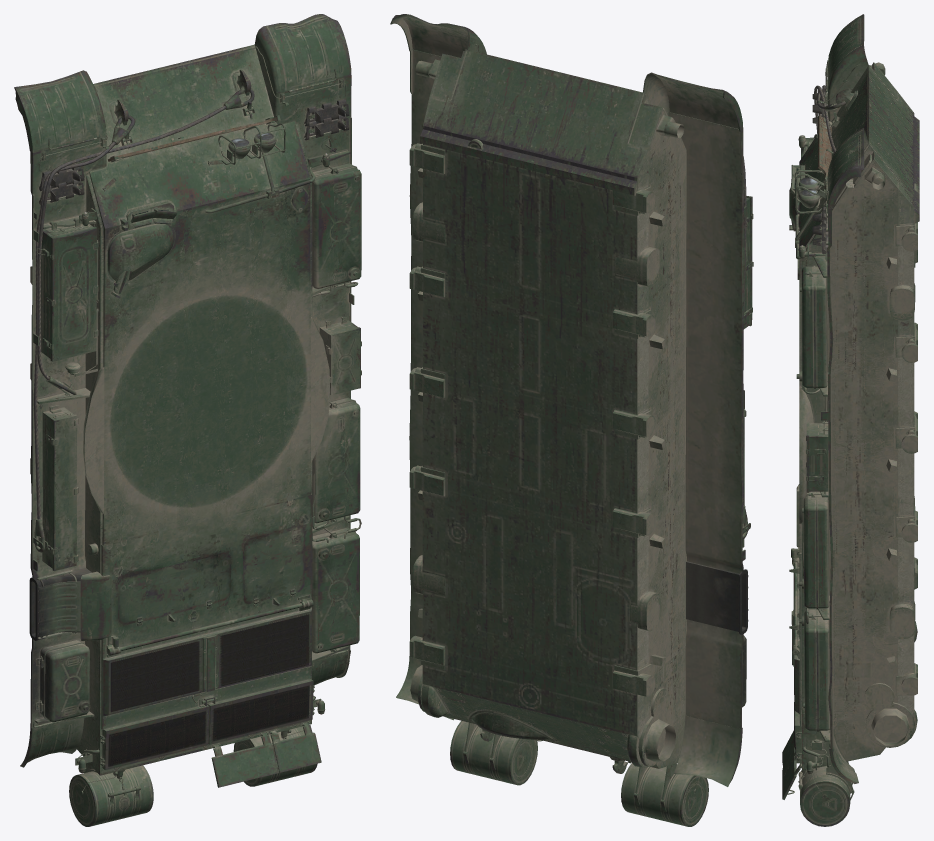
File: Hull.glb
The picture shows the model from 3 angles, left to right: view 1: azimuth 30°, elevation 25°; view 2: azimuth 150°, elevation 25°; view 3: azimuth 270°, elevation 25°; orthographic projection. The views are drawn at different scales.
Parts seen in each view (by area): view 1: set_0_group_0; view 2: set_0_group_0; view 3: set_0_group_0.
Part boxes in pixels (box(x1,y1,x2,y2)): set_0_group_0: box(14, 14, 361, 826); set_0_group_0: box(390, 14, 753, 826); set_0_group_0: box(782, 14, 919, 826).
Bounding box in the file's own units: 2.87 × 6.22 × 1.12.
Materials: 1 (1 with a texture image).
